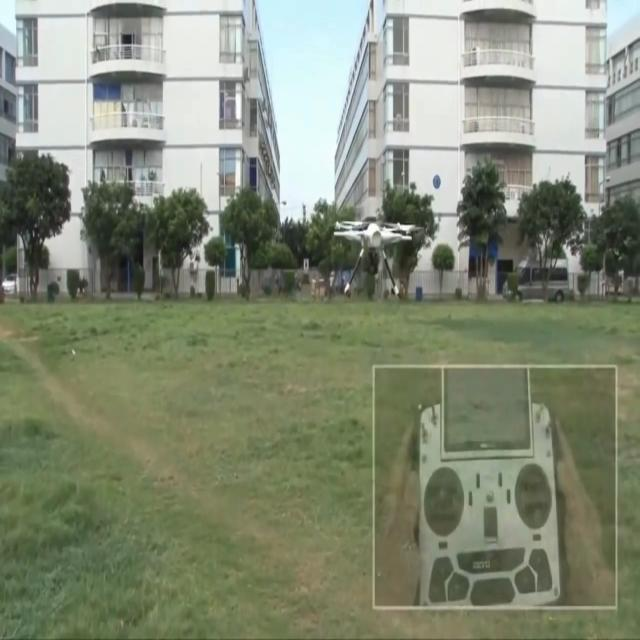drone: (332, 216, 424, 300)
